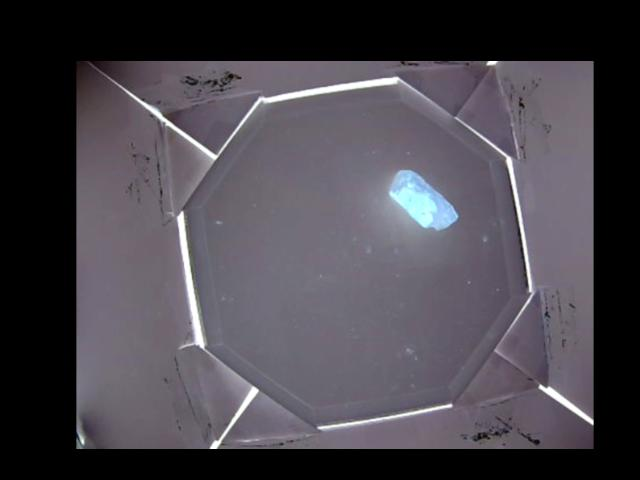Brisk: (389, 169, 459, 229)
